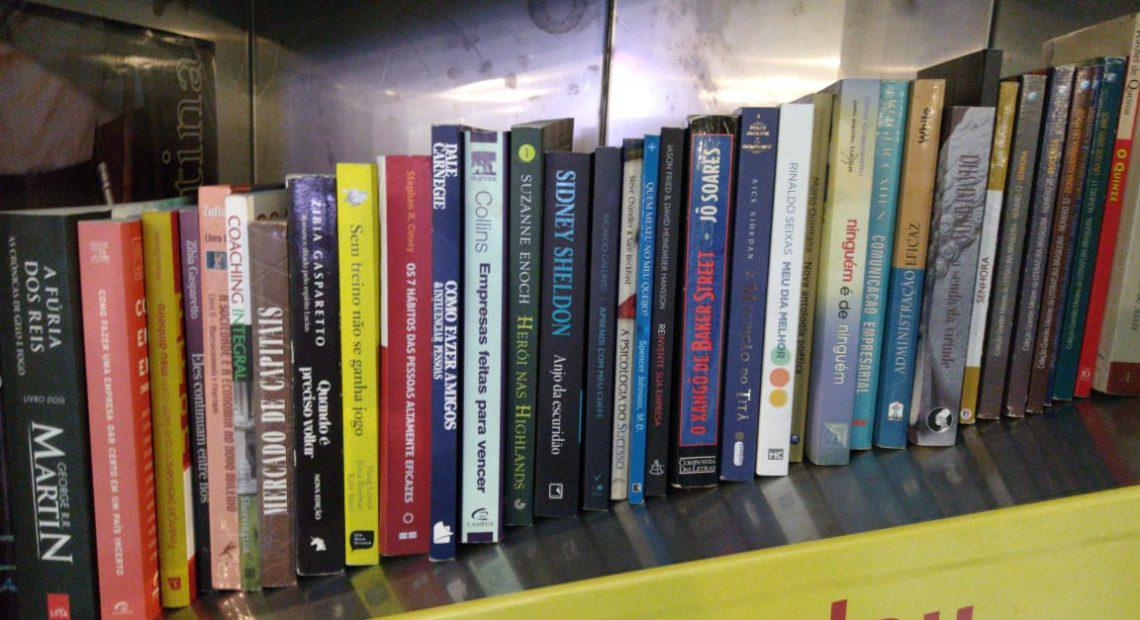book: (23, 222, 71, 611), (387, 166, 423, 545), (96, 242, 130, 612), (302, 198, 330, 565), (207, 204, 232, 583), (346, 185, 371, 551), (469, 147, 491, 546), (691, 121, 714, 491), (260, 232, 284, 585), (437, 149, 455, 553), (550, 162, 569, 510), (845, 96, 856, 466), (519, 141, 529, 521), (598, 157, 606, 517)
